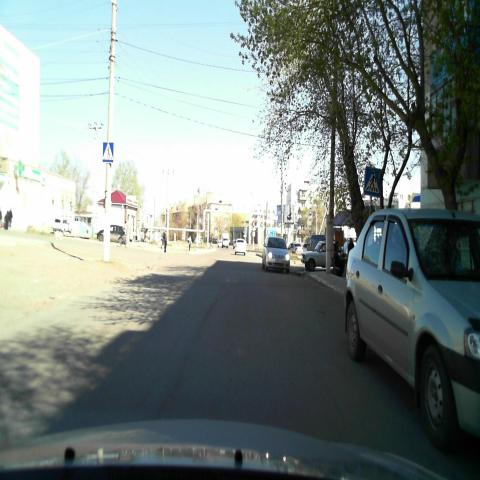5_19_1: (364, 165, 380, 195), (103, 142, 114, 162)
